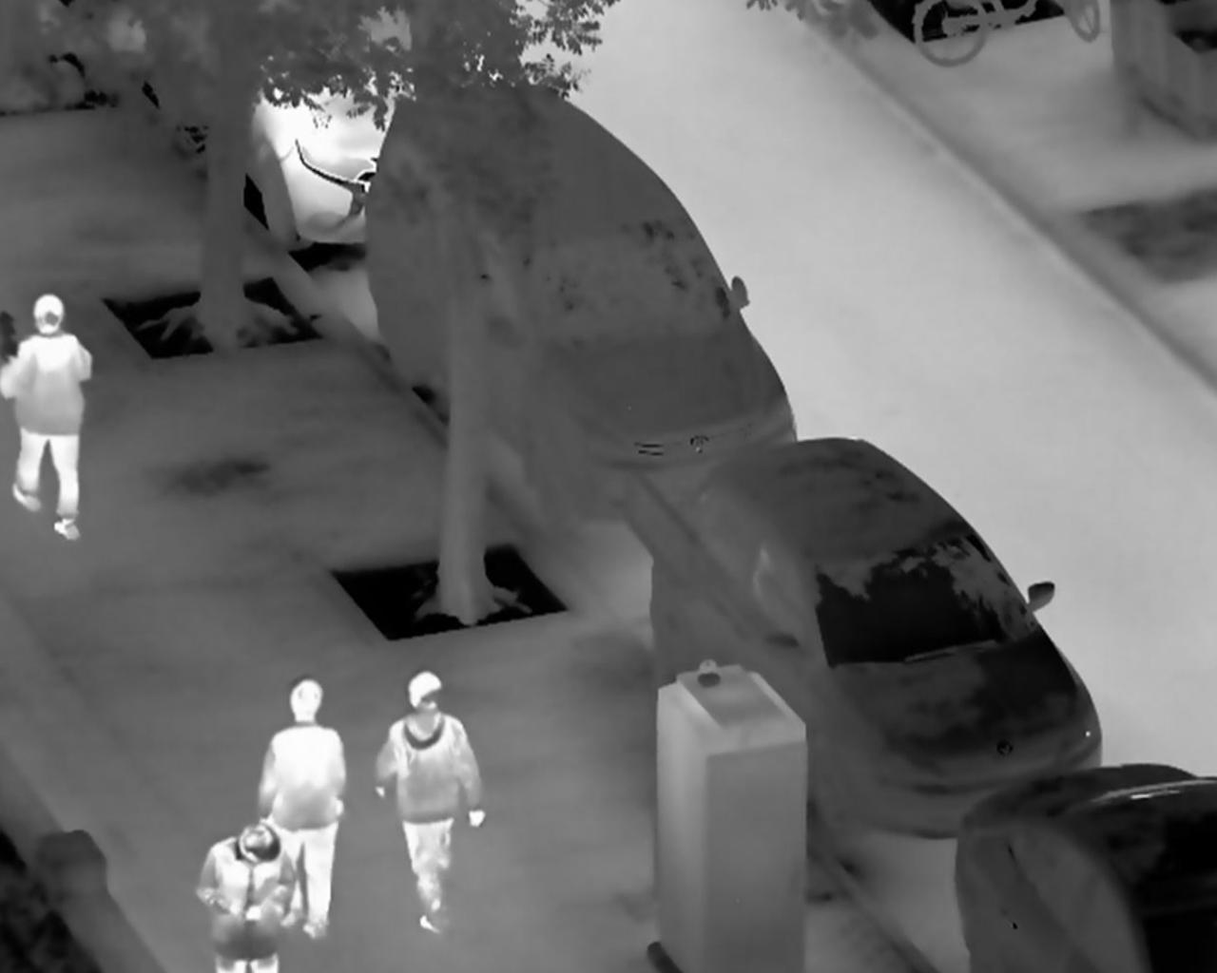person: (372, 665, 485, 941), (258, 675, 348, 941), (194, 823, 296, 973)
